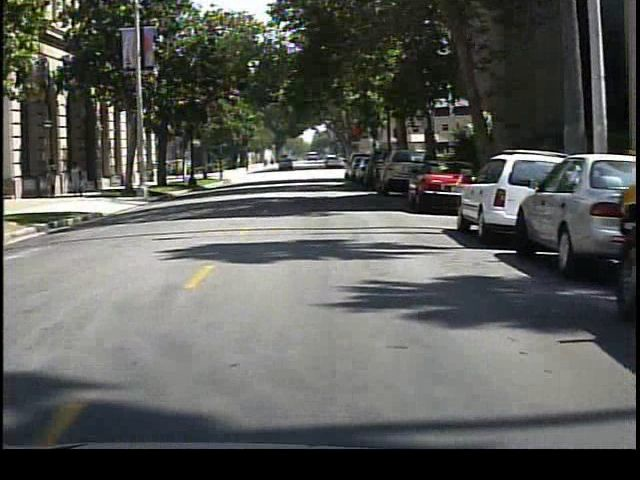person: (69, 158, 92, 198), (45, 153, 65, 195)
